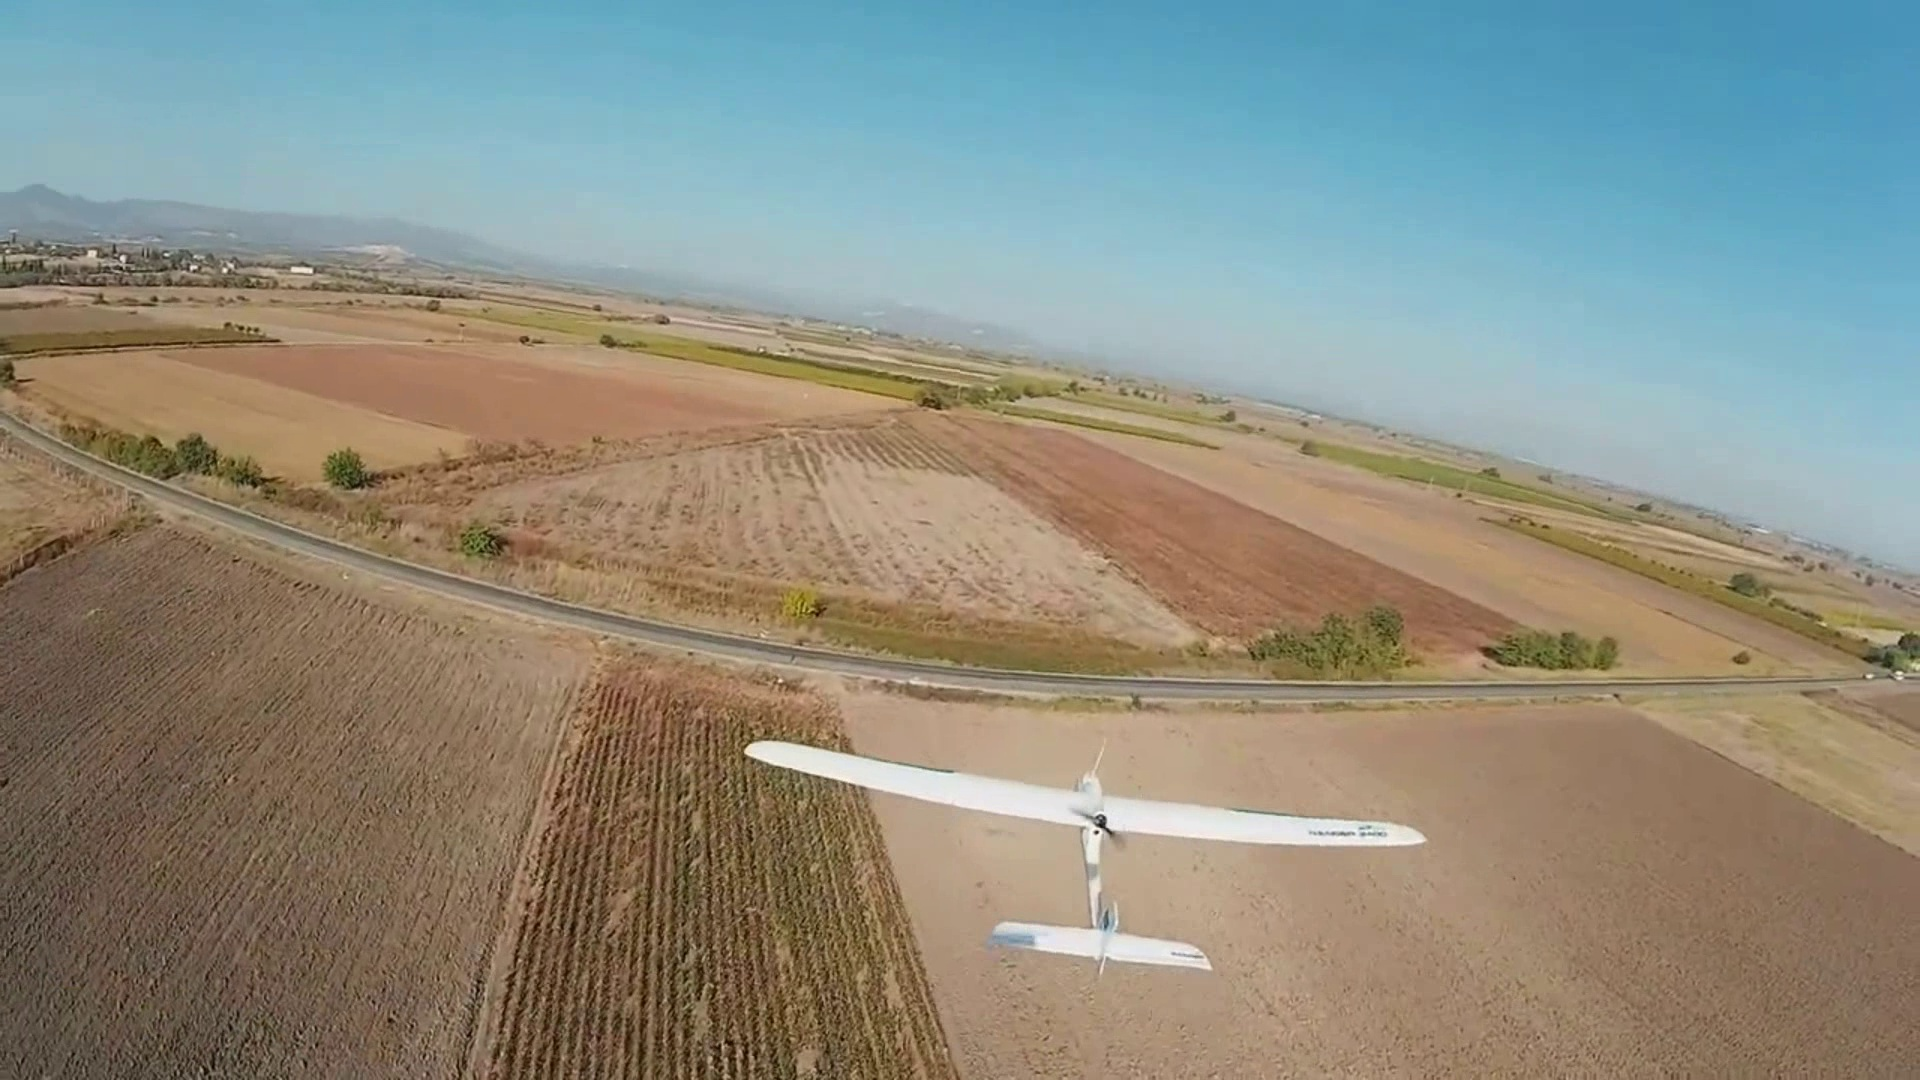airplane: (746, 737, 1423, 965)
